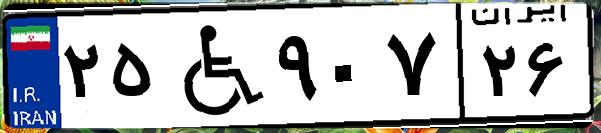0: (330, 28, 385, 110)
2: (57, 26, 110, 100), (475, 38, 525, 113)
5: (110, 28, 158, 98)
6: (525, 38, 570, 115)
7: (385, 28, 445, 110)
9: (270, 28, 330, 110)
ژ (معلولین و جانبازان): (158, 12, 270, 120)
